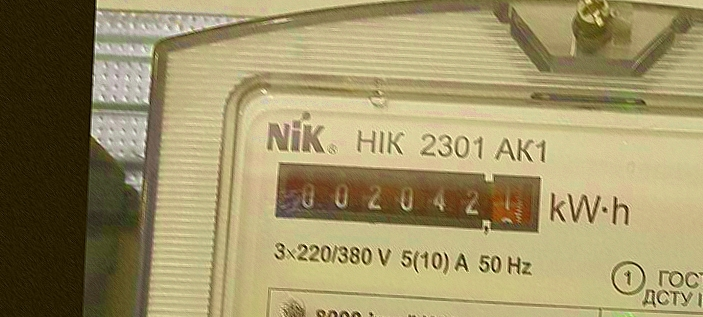0: (398, 180, 417, 211), (333, 177, 351, 209), (299, 177, 318, 207)
1: (500, 179, 515, 211)
2: (366, 179, 385, 209), (464, 184, 482, 213)
4: (431, 179, 450, 212)
screen: (271, 155, 548, 239)
